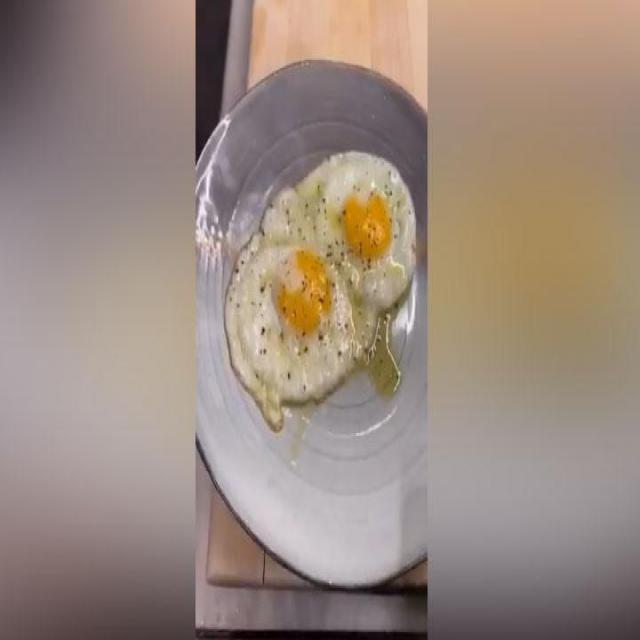Fried Egg: (224, 154, 416, 411)
